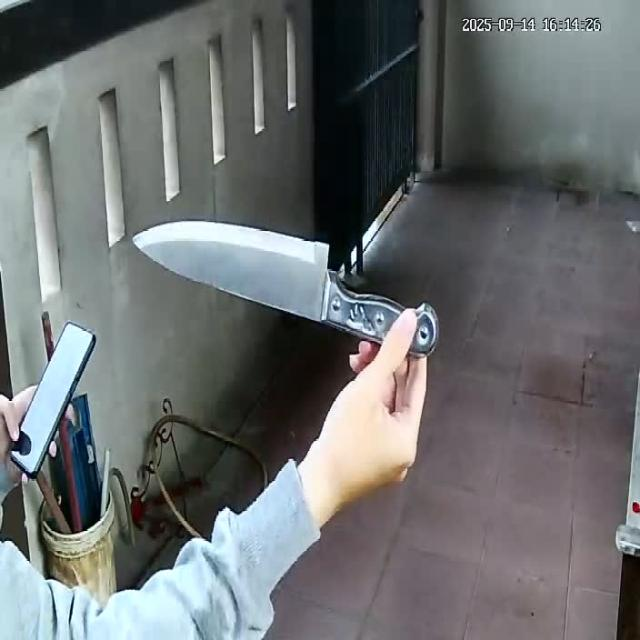senjata_tajam: (133, 217, 386, 345)
